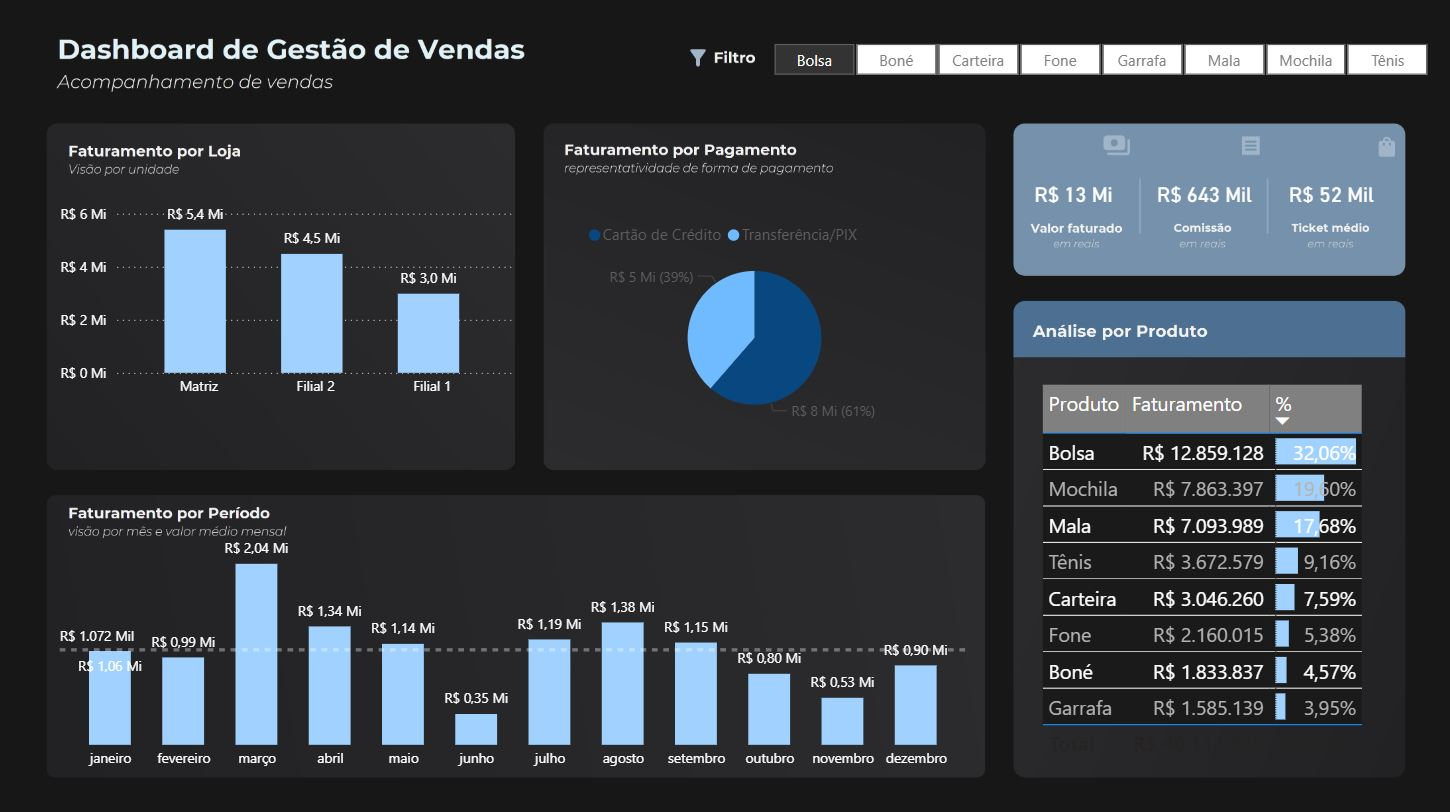

What the dashboard file says about the page in this screenshot:
{"tool":"powerbi","page":{"name":"Página 1","canvas":[1280,720],"ordinal":0},"visuals":[{"type":"card","fields":{"Values":["Sum(vendas.Valor Venda)"]},"box":[880.7,142.2,129.1,64.1],"z":0},{"type":"card","fields":{"Values":["Avg(vendas.Valor Venda)"]},"box":[1079.1,134.3,185.3,79.9],"z":1000},{"type":"actionButton","box":[0,0,100,40],"z":2000},{"type":"clusteredColumnChart","title":"Faturamento por periodo","fields":{"Category":["vendas.Data Pedido.Variation.Hierarquia de datas.Mês"],"Y":["Sum(vendas.Valor Venda)"]},"box":[50,458.3,806.9,228.3],"z":3000},{"type":"pieChart","title":"Faturamento por Pagamento","fields":{"Y":["Sum(vendas.Valor Venda)"],"Category":["vendas.Pagamento"]},"box":[513.7,188.8,302.9,192.3],"z":4000},{"type":"clusteredColumnChart","title":"Faturamento por Loja","fields":{"Y":["Sum(vendas.Valor Venda)"],"Category":["lojas.nome_loja"]},"box":[50,167.7,408.3,192.3],"z":5000},{"type":"tableEx","fields":{"Values":["vendas.Produto","Sum(vendas.Valor Venda)","Divide(Sum(vendas.Valor Venda), ScopedEval(Sum(vendas.Valor Venda), []))"]},"box":[912.3,335.4,352.1,343.3],"z":6000},{"type":"slicer","fields":{"Values":["vendas.Produto"]},"box":[656.8,34.2,623.4,34.2],"z":7000},{"type":"card","fields":{"Values":["vendas.comissa"]},"box":[995.7,142.2,129.1,64.1],"z":7001}]}

Visuals, with their boxes in screenshot pixels (x1, y1, x2, y2), scaled from the page's 1280x720 canvas onto the 1450x812 screenshot:
card - Sum(vendas.Valor Venda): locate(998, 160, 1144, 233)
card - Avg(vendas.Valor Venda): locate(1222, 151, 1432, 242)
actionButton: locate(0, 0, 113, 45)
"Faturamento por periodo" clusteredColumnChart: locate(57, 517, 971, 774)
"Faturamento por Pagamento" pieChart: locate(582, 213, 925, 430)
"Faturamento por Loja" clusteredColumnChart: locate(57, 189, 519, 406)
tableEx - vendas.Produto x Sum(vendas.Valor Venda): locate(1033, 378, 1432, 765)
slicer - vendas.Produto: locate(744, 39, 1449, 77)
card - vendas.comissa: locate(1128, 160, 1274, 233)
